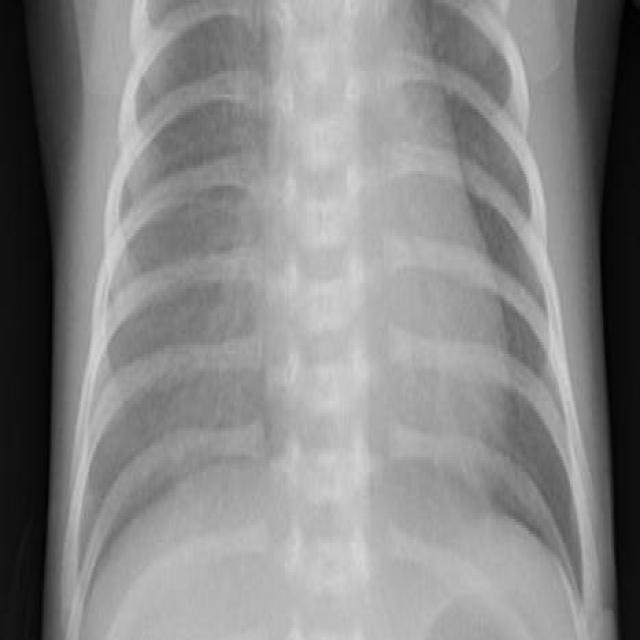low-pneumonia: (196, 139, 271, 430)
